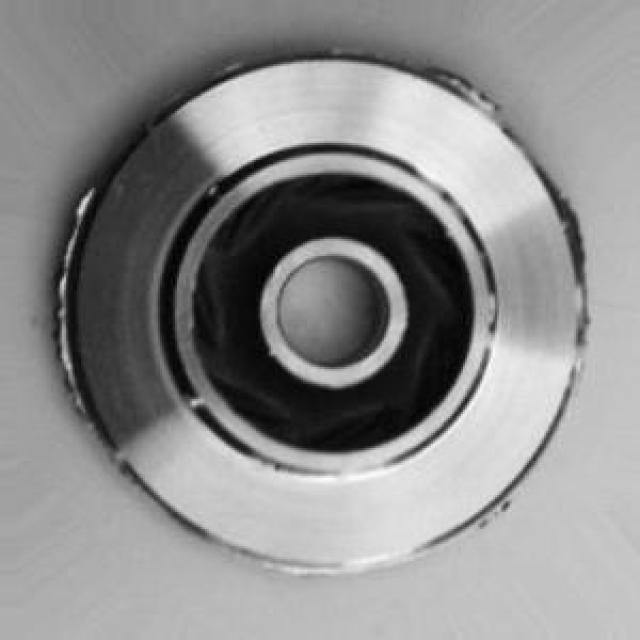Defect: (448, 62, 499, 121)
